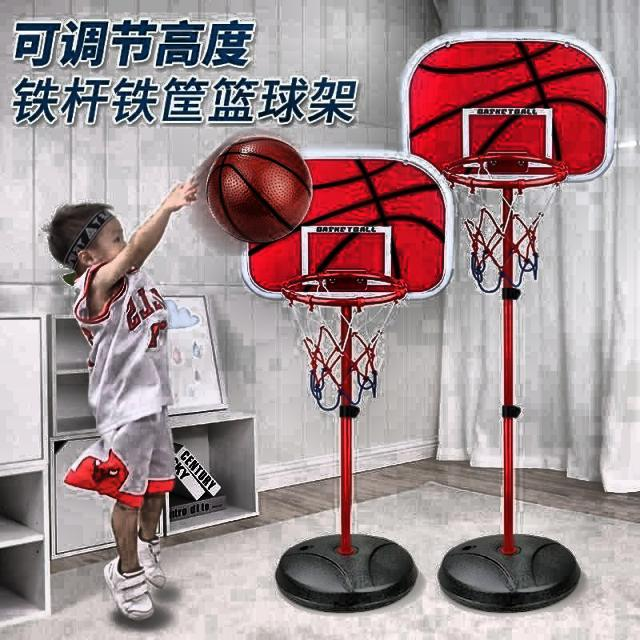board: (208, 135, 314, 245)
rim: (284, 273, 407, 406), (444, 154, 564, 290)
